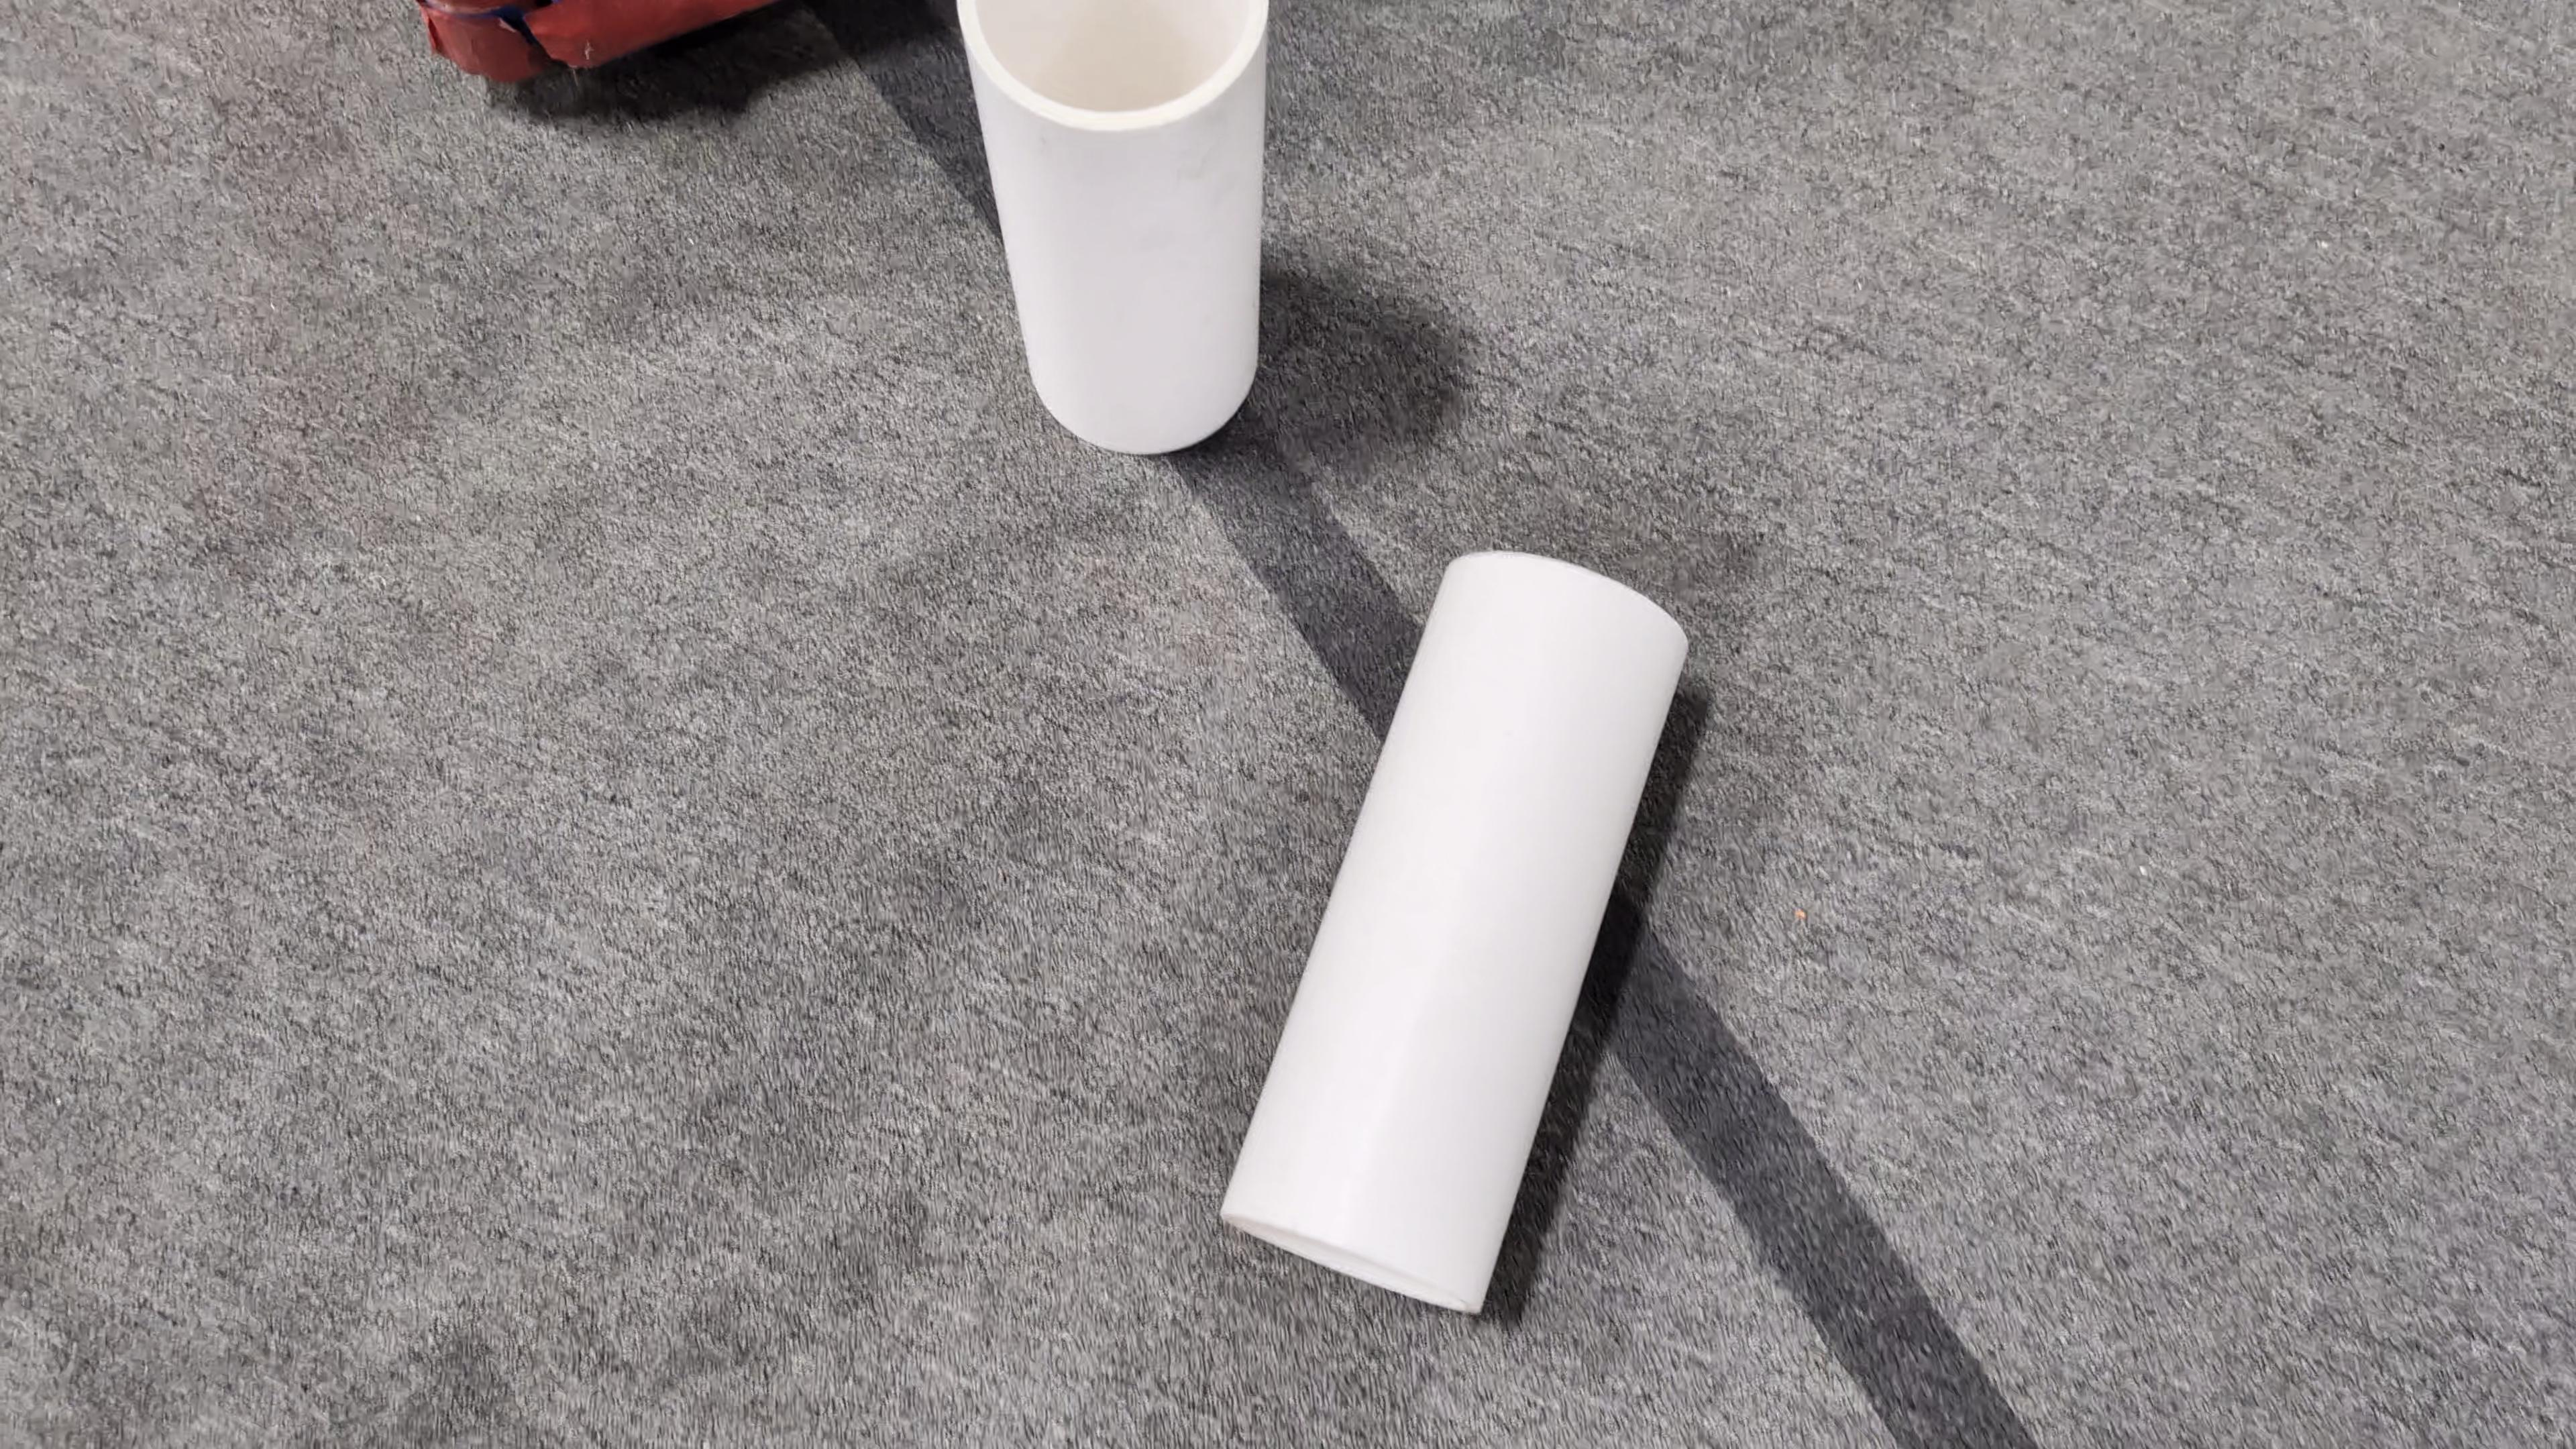coral: (1215, 541, 1695, 1315), (952, 2, 1270, 455)
